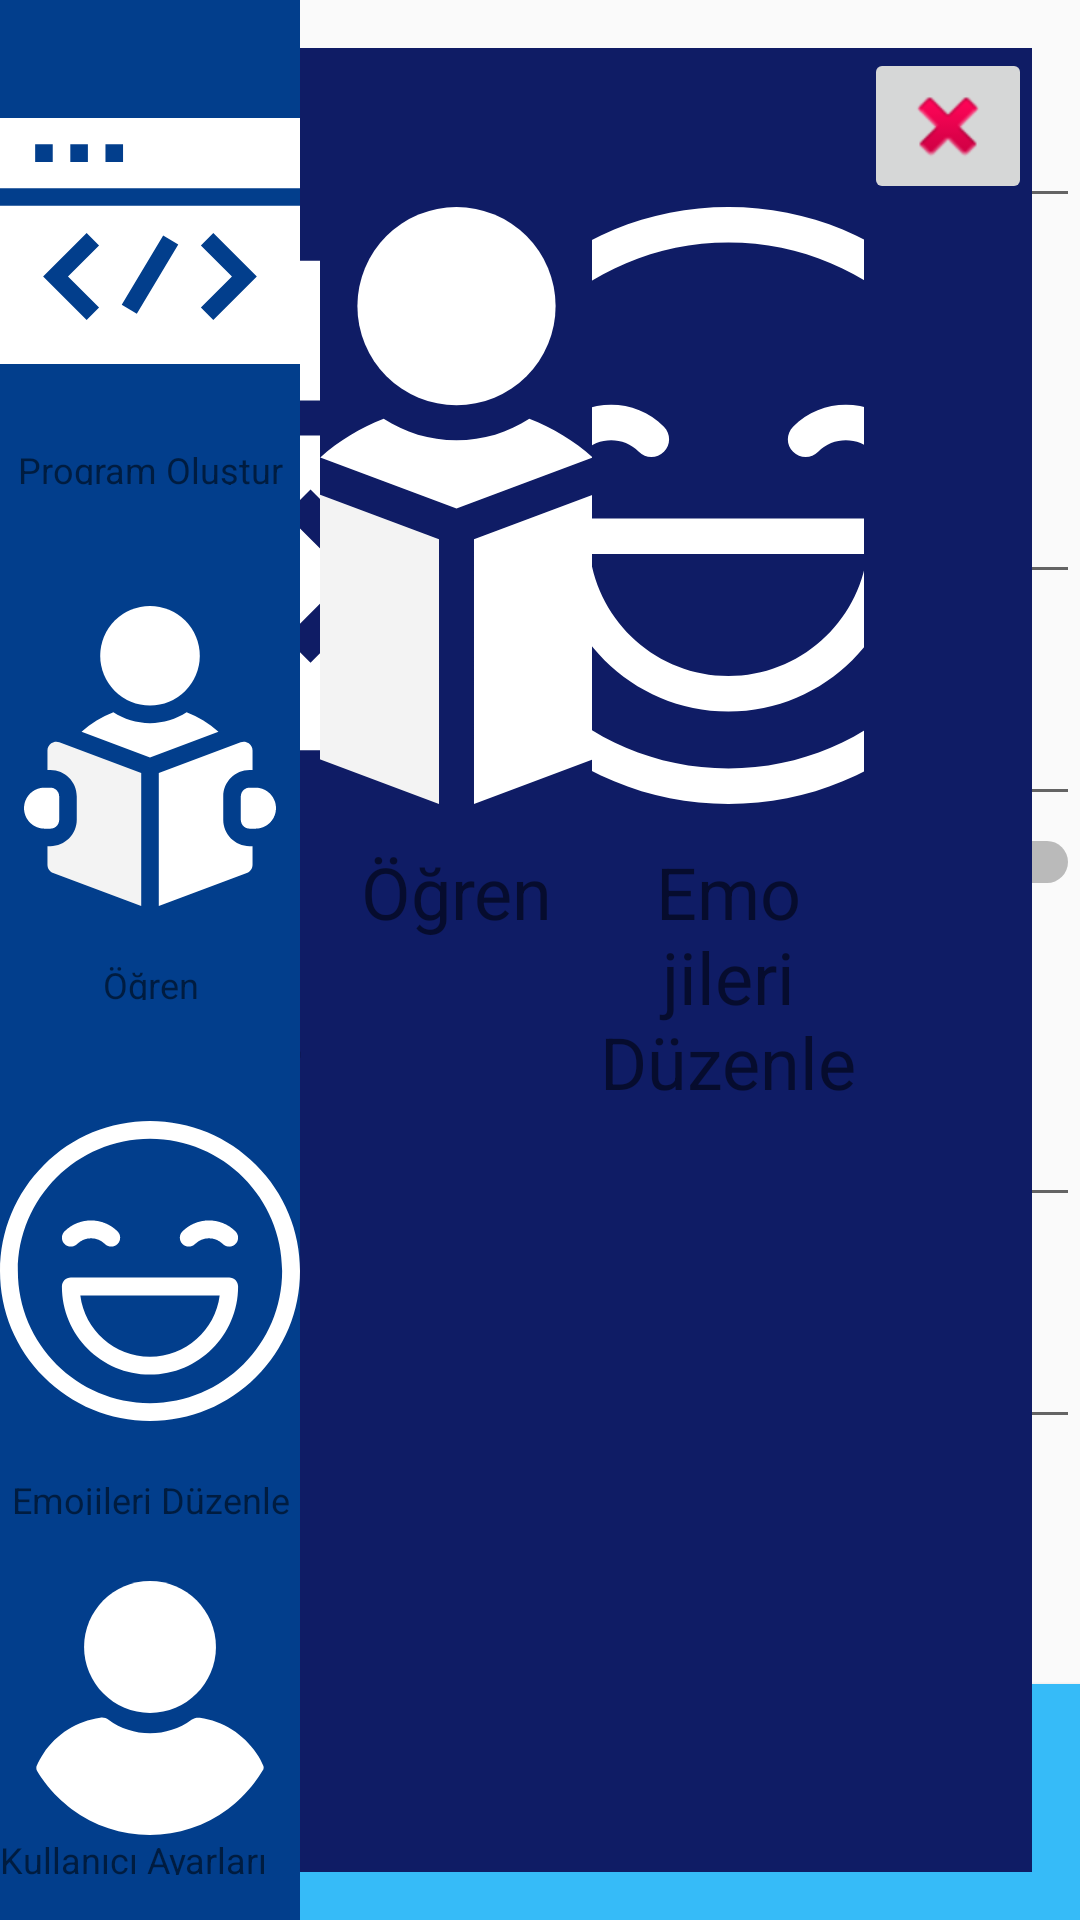

Where icons sit on this 1080 x 1920 app screen, as BBox(x1, y1, x2, y2):
delete: BBox(876, 66, 1020, 186)
